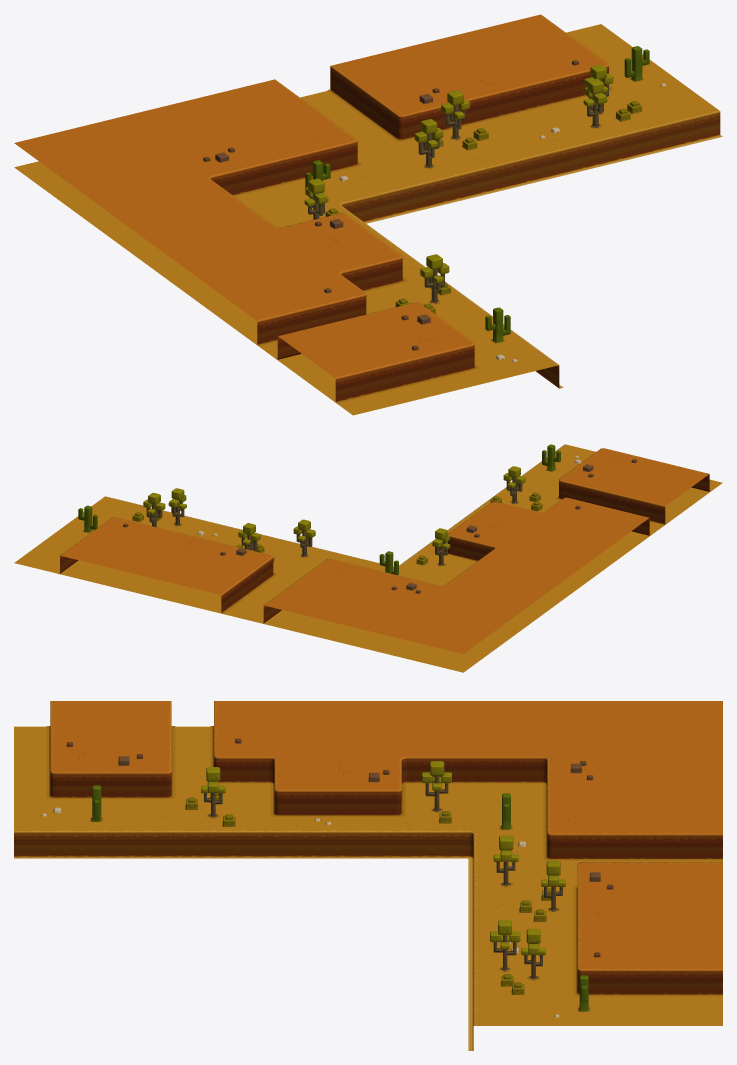
The model's file is C_mountain1_out_RD.fbx.
The picture shows the model from 3 angles, top to bottom: view 1: azimuth 30°, elevation 25°; view 2: azimuth 150°, elevation 25°; view 3: azimuth 270°, elevation 25°; orthographic projection. The views are drawn at different scales.
Parts seen in each view (by area): view 1: C_mountain1_out_RD; view 2: C_mountain1_out_RD; view 3: C_mountain1_out_RD.
Part boxes in pixels (box(x1,y1,x2,y2)): C_mountain1_out_RD: box(14, 14, 722, 415); C_mountain1_out_RD: box(14, 444, 722, 672); C_mountain1_out_RD: box(14, 701, 722, 1050).
Bounding box in the file's own units: 117 × 13.14 × 117.
